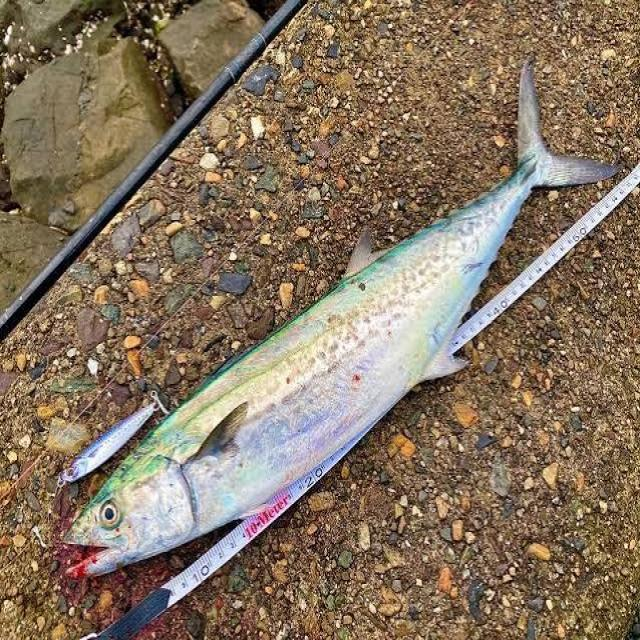japanese_spanish_mackerel: (43, 47, 632, 626)
